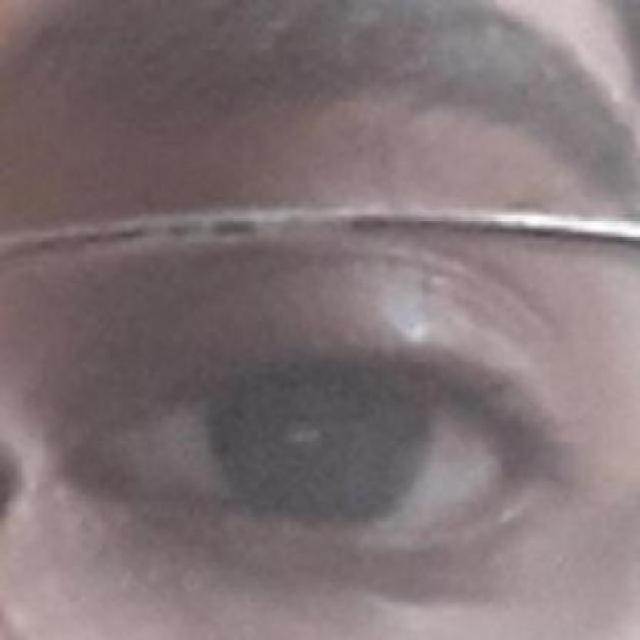awake: (83, 300, 562, 572)
